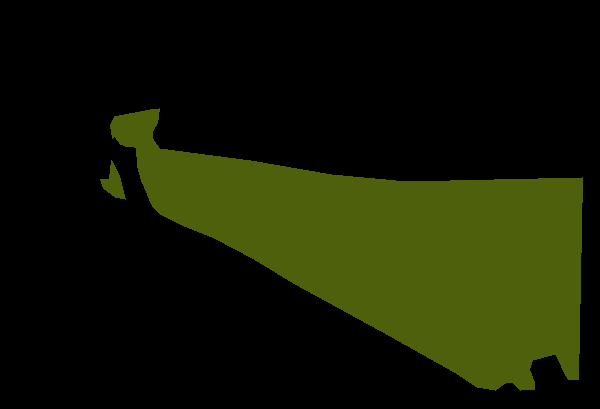Train: (100, 108, 583, 391)
